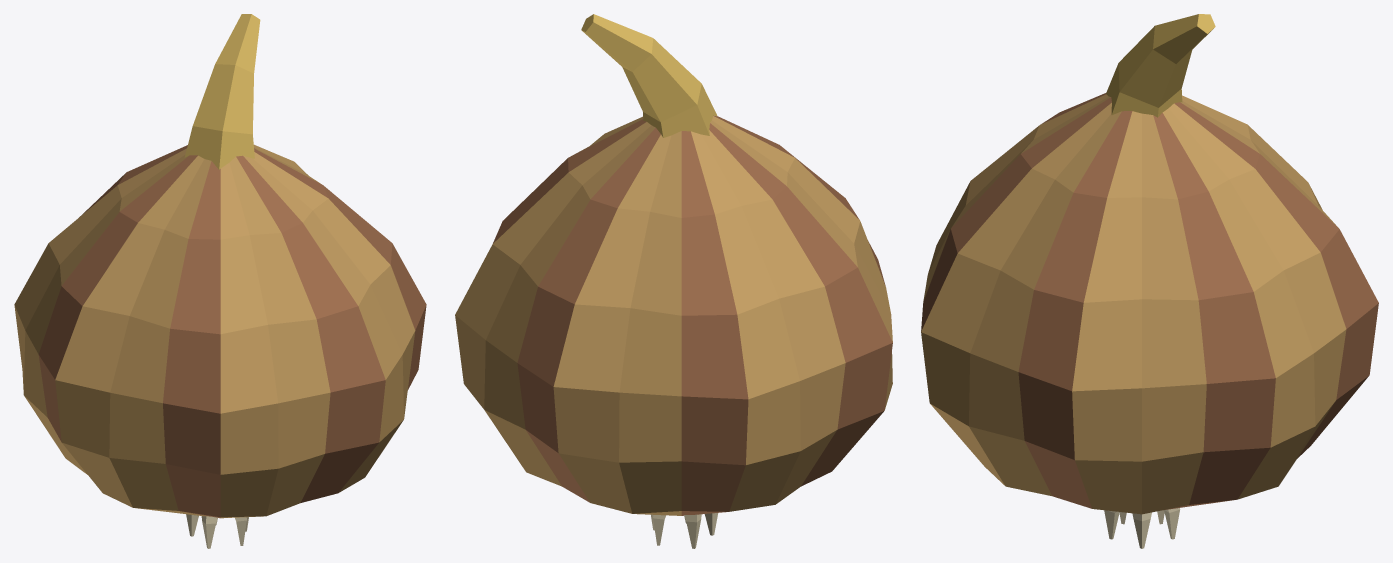
Rendered from mdvl_food_onion_01.glb.
3 views of the same model, side by side, from view 1: azimuth 30°, elevation 25°; view 2: azimuth 150°, elevation 25°; view 3: azimuth 270°, elevation 25° (orthographic). The views are drawn at different scales.
Visible parts, largest first — view 1: mdvl_food_onion_01; view 2: mdvl_food_onion_01; view 3: mdvl_food_onion_01.
Boxes of the visible parts, bbox=[...] form: mdvl_food_onion_01: bbox=[14, 14, 426, 548]; mdvl_food_onion_01: bbox=[455, 14, 892, 548]; mdvl_food_onion_01: bbox=[921, 14, 1378, 548].
Size of the model in its own units: 0.0769 by 0.1013 by 0.0762.
1 material, 1 textured.
